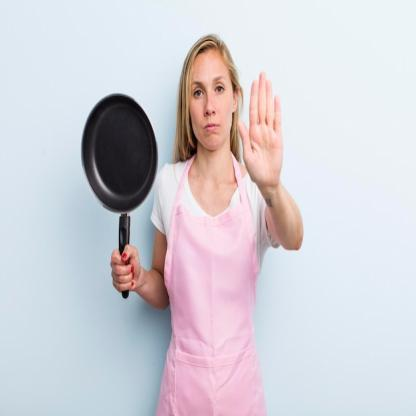stop: (236, 69, 286, 190)
